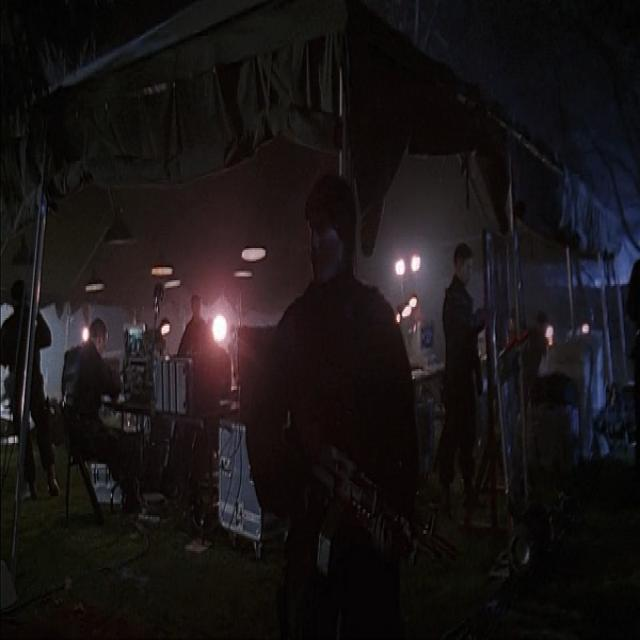rifle: (277, 417, 467, 596)
